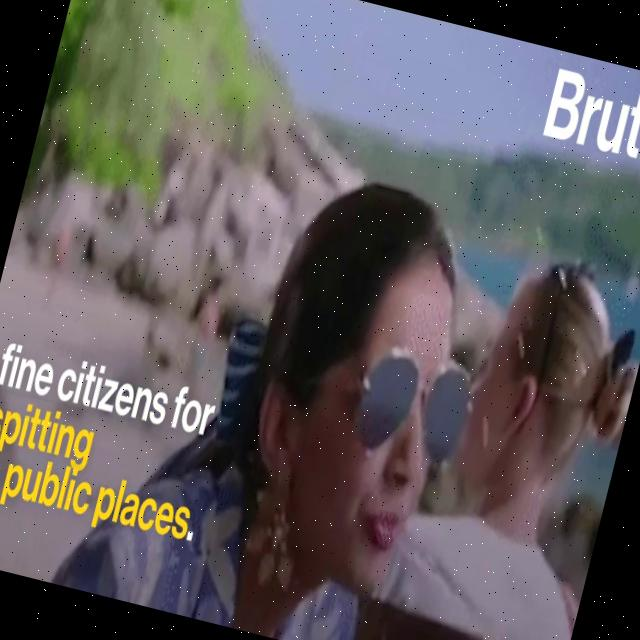spit: (296, 282, 552, 640)
